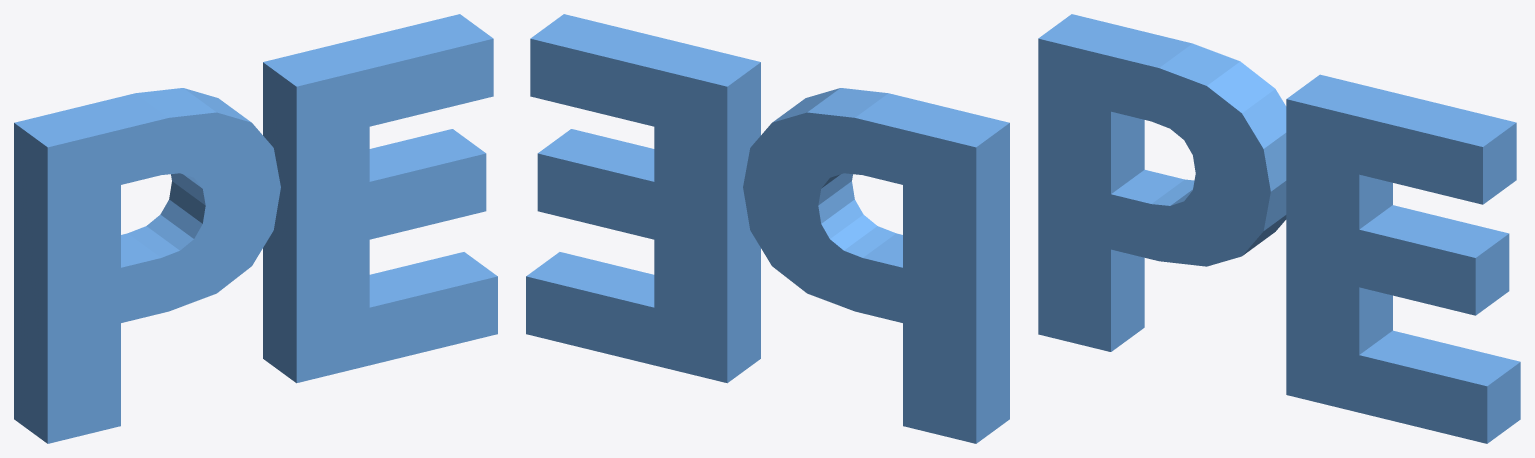
Rendered from suku_besar_pe.glb.
3 views of the same model, side by side, from view 1: azimuth 30°, elevation 25°; view 2: azimuth 150°, elevation 25°; view 3: azimuth 330°, elevation 25° (orthographic).
Parts seen in each view (by area): view 1: geometry_0; view 2: geometry_0; view 3: geometry_0.
Boxes of the visible parts, bbox=[...] form: geometry_0: bbox=[14, 14, 497, 443]; geometry_0: bbox=[526, 14, 1009, 443]; geometry_0: bbox=[1038, 14, 1520, 443].
Bounding box in the file's own units: 11.58 × 7.29 × 1.5.
